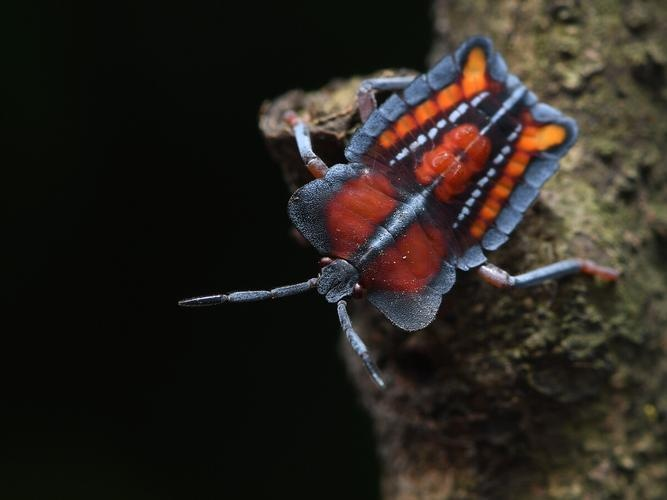Stink_Bug: (280, 85, 605, 288)
